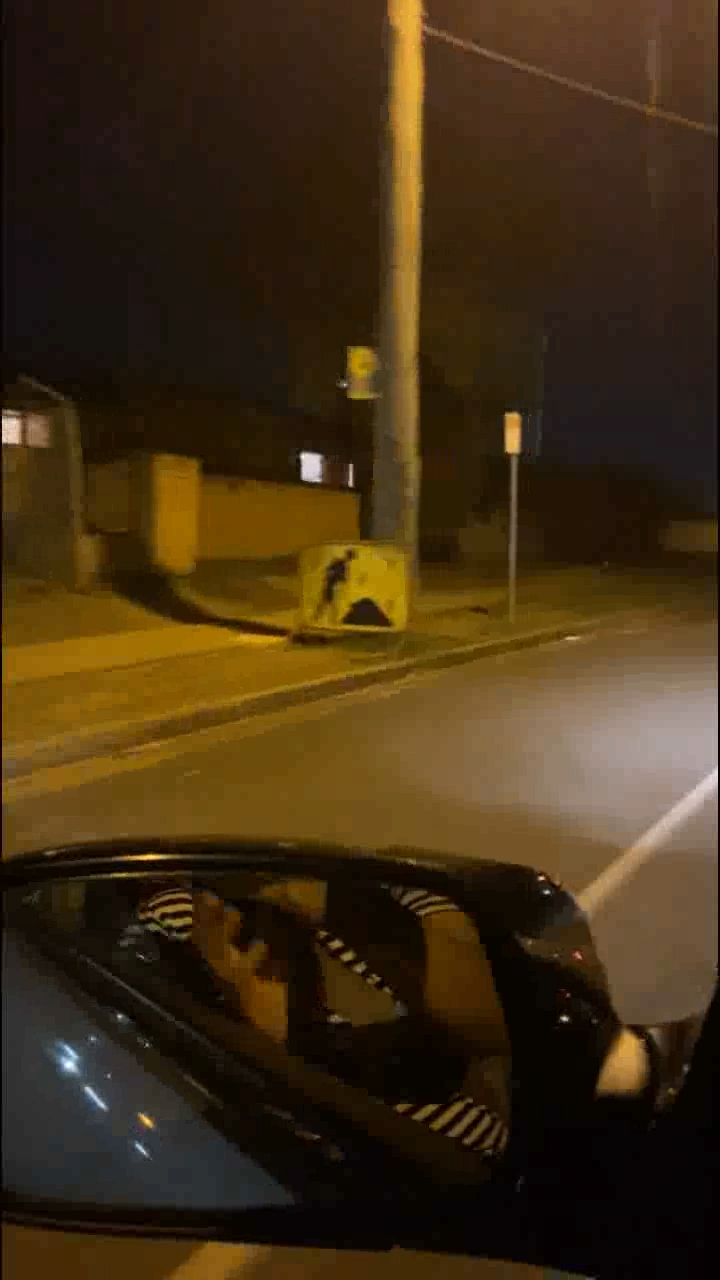road works sign board: (294, 543, 399, 628)
